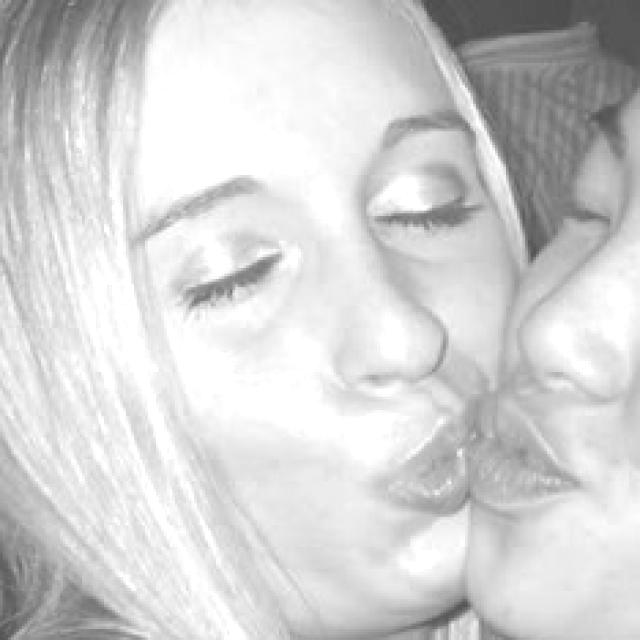real: (84, 14, 484, 590), (174, 157, 480, 312)
